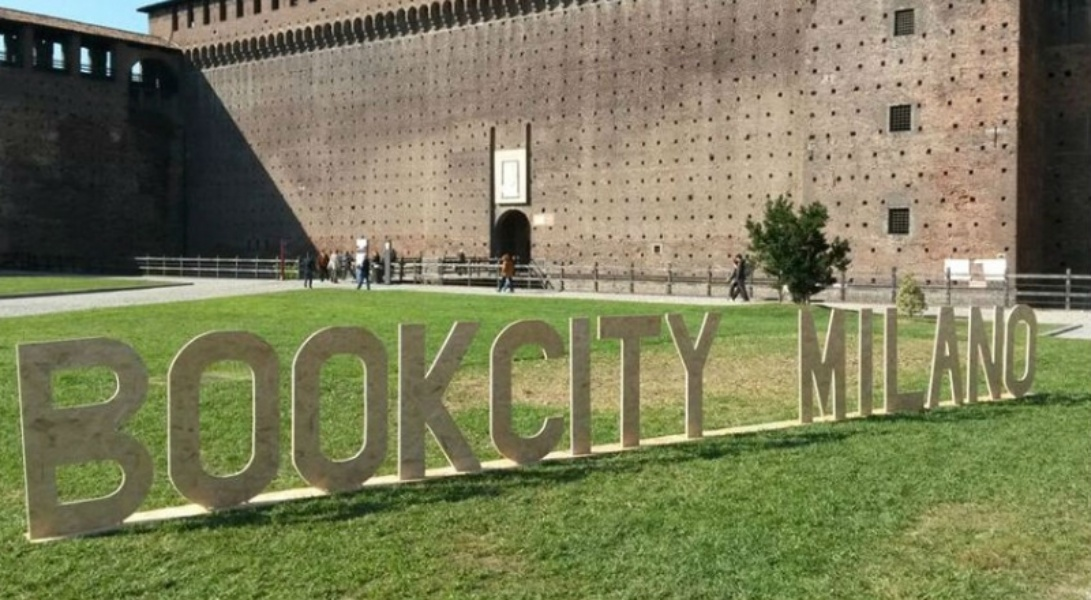text: (17, 309, 32, 542), (33, 309, 48, 542), (49, 309, 64, 542), (65, 309, 80, 542), (81, 309, 96, 542), (97, 309, 112, 542), (113, 309, 128, 542), (129, 309, 144, 542), (145, 309, 160, 542), (161, 309, 176, 542), (177, 309, 192, 542), (193, 309, 208, 542), (209, 309, 224, 542), (225, 309, 240, 542), (241, 309, 256, 542), (257, 309, 272, 542), (273, 309, 288, 542), (289, 309, 304, 542), (305, 309, 320, 542), (321, 309, 336, 542), (337, 309, 352, 542), (353, 309, 368, 542), (369, 309, 384, 542), (385, 309, 400, 542), (401, 309, 416, 542), (417, 309, 432, 542), (433, 309, 448, 542), (449, 309, 464, 542), (465, 309, 480, 542), (481, 309, 496, 542), (497, 309, 512, 542), (513, 309, 528, 542), (529, 309, 544, 542), (545, 309, 560, 542), (561, 309, 576, 542), (577, 309, 592, 542), (593, 309, 608, 542), (609, 309, 624, 542), (625, 309, 640, 542), (641, 309, 656, 542), (657, 309, 672, 542), (673, 309, 688, 542), (689, 309, 704, 542), (705, 309, 720, 542), (801, 302, 816, 426), (817, 302, 832, 426), (833, 302, 848, 426), (849, 302, 864, 426), (865, 302, 880, 426), (881, 302, 896, 426), (897, 302, 912, 426), (913, 302, 928, 426), (929, 302, 944, 426), (945, 302, 960, 426), (961, 302, 976, 426), (977, 302, 992, 426), (993, 302, 1008, 426), (1009, 302, 1024, 426), (1025, 302, 1040, 426), (11, 309, 16, 542), (798, 302, 800, 426), (721, 309, 722, 542), (1041, 302, 1042, 426)
